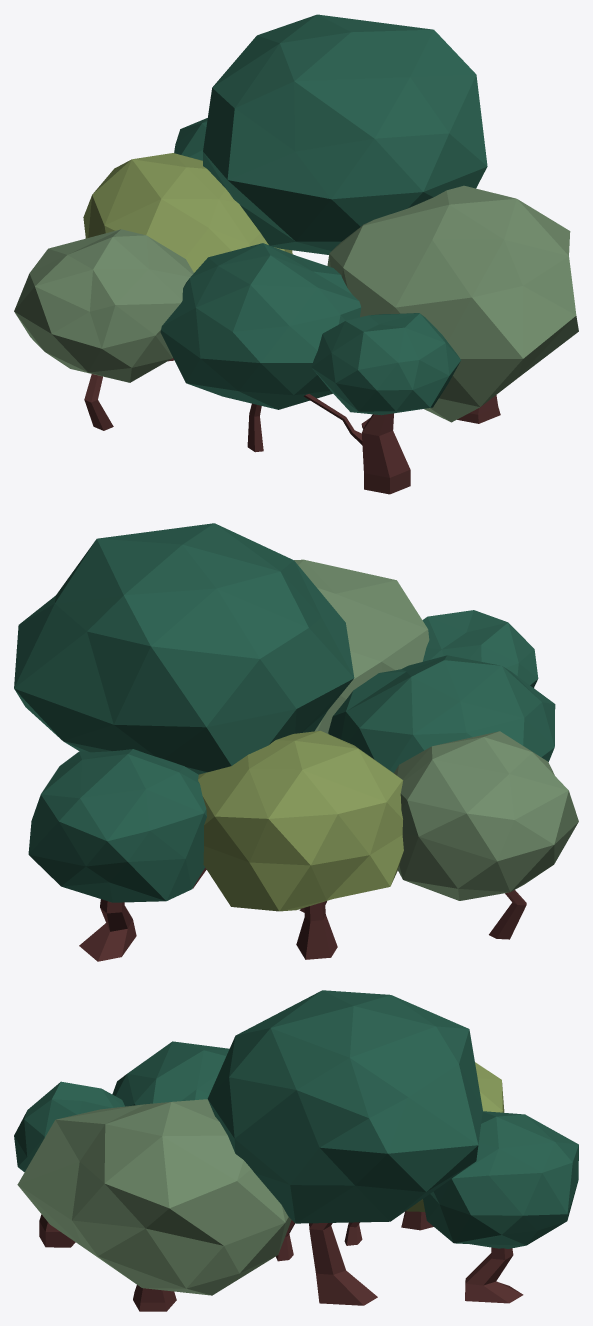
Rendered from lipa_bk2.fbx.
3 views of the same model, one above another, from view 1: azimuth 30°, elevation 25°; view 2: azimuth 150°, elevation 25°; view 3: azimuth 270°, elevation 25° (orthographic). The views are drawn at different scales.
Visible parts, largest first — view 1: Icosphere.030, Icosphere.028, Icosphere.027, Icosphere.025, Icosphere.024, Icosphere.029, Cylinder.020, Icosphere.026, Cylinder.028, Cylinder.026; view 2: Icosphere.030, Icosphere.024, Icosphere.025, Icosphere.026, Icosphere.027, Icosphere.028, Icosphere.029, Cylinder.027, Cylinder.023, Cylinder.028; view 3: Icosphere.030, Icosphere.028, Icosphere.026, Icosphere.027, Icosphere.029, Cylinder.019, Cylinder.027, Icosphere.024, Cylinder.025, Cylinder.020, Cylinder.023.
Boxes of the visible parts, <box> form: Icosphere.030: <box>203,14,487,254</box>; Icosphere.028: <box>327,185,578,422</box>; Icosphere.027: <box>160,243,361,409</box>; Icosphere.025: <box>14,229,193,382</box>; Icosphere.024: <box>83,153,292,272</box>; Icosphere.029: <box>311,313,460,415</box>; Cylinder.020: <box>362,413,410,494</box>; Icosphere.026: <box>174,118,207,160</box>; Cylinder.028: <box>84,374,113,430</box>; Cylinder.026: <box>247,403,263,452</box>; Icosphere.030: <box>14,523,354,774</box>; Icosphere.024: <box>198,730,403,911</box>; Icosphere.025: <box>394,731,578,900</box>; Icosphere.026: <box>28,749,206,902</box>; Icosphere.027: <box>328,655,555,772</box>; Icosphere.028: <box>294,559,429,733</box>; Icosphere.029: <box>422,610,538,687</box>; Cylinder.027: <box>79,899,136,961</box>; Cylinder.023: <box>296,901,337,959</box>; Cylinder.028: <box>489,890,526,939</box>; Icosphere.030: <box>207,990,482,1223</box>; Icosphere.028: <box>17,1099,291,1295</box>; Icosphere.026: <box>423,1111,578,1248</box>; Icosphere.027: <box>112,1041,229,1106</box>; Icosphere.029: <box>14,1081,124,1171</box>; Cylinder.019: <box>309,1223,377,1305</box>; Cylinder.027: <box>465,1247,523,1303</box>; Icosphere.024: <box>406,1062,504,1211</box>; Cylinder.025: <box>133,1285,176,1311</box>; Cylinder.020: <box>39,1214,75,1247</box>; Cylinder.023: <box>401,1211,433,1230</box>.
Size of the model in its own units: 205 by 130 by 226.
